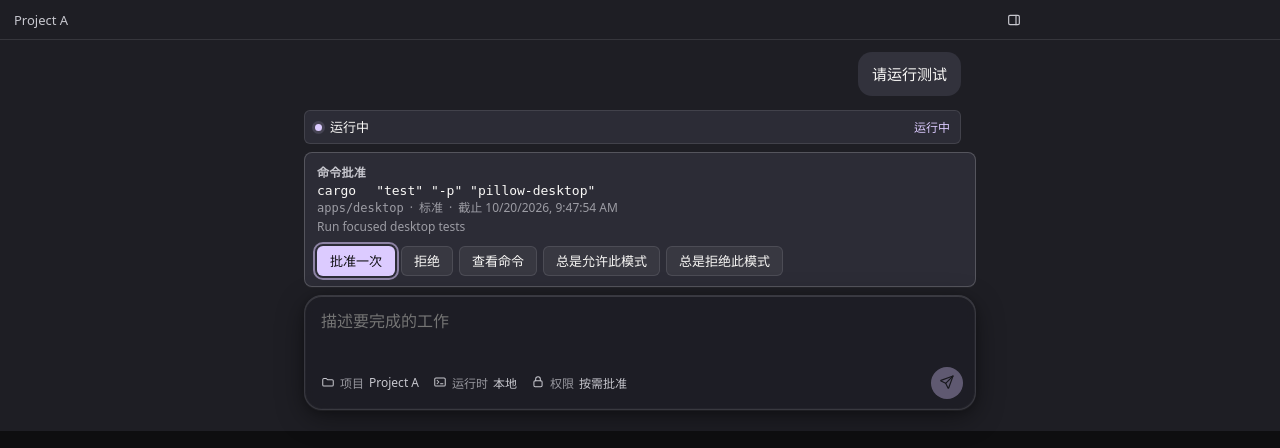
Test: C4 workbench process integration — decide and re-list › approve-once sends no grant and re-lists authoritatively
Click the button with test id "command-approval-approve" at coordinates (356, 261), box top-left (317, 246), bottom-right (395, 276)
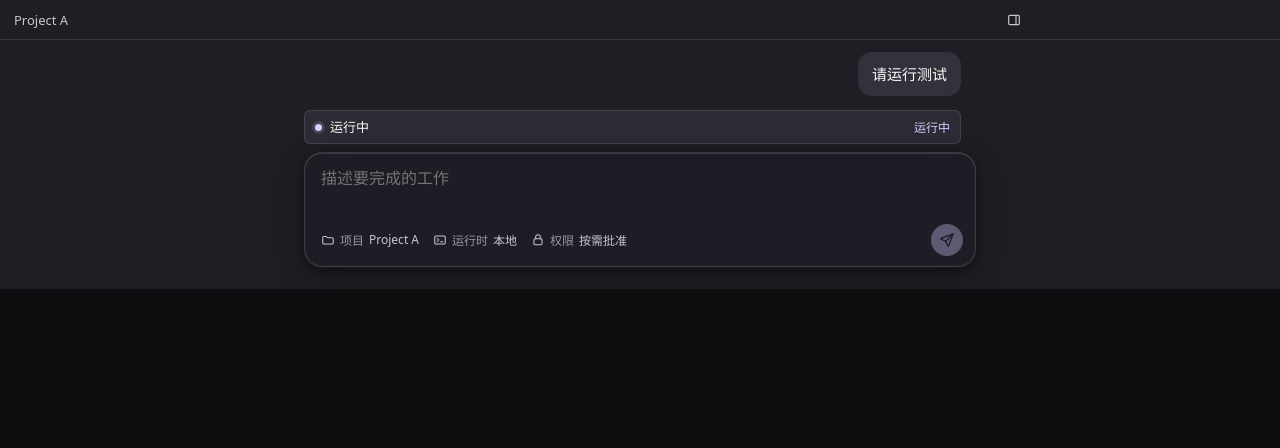
Check: the element with test id "command-approval-bar" is gone
